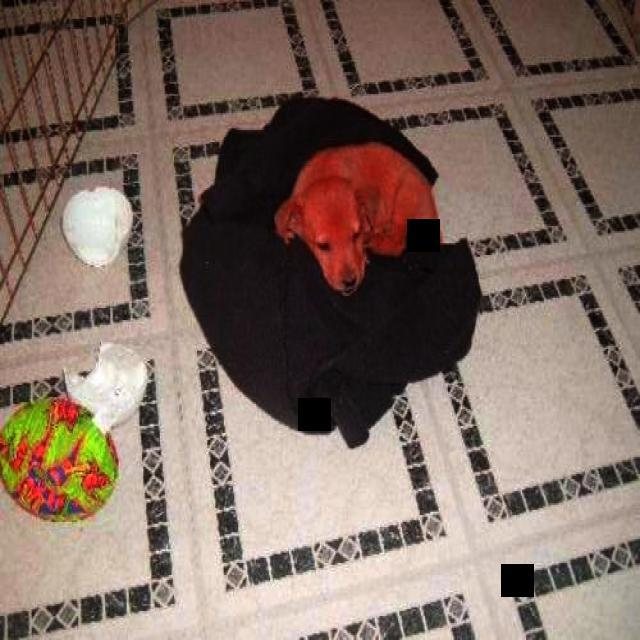puppy-dog: (273, 144, 442, 296)
